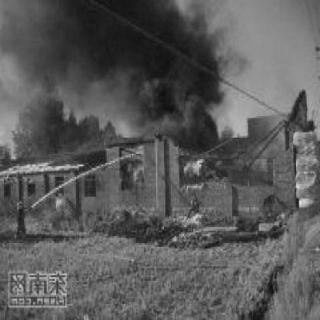Smoke: (74, 3, 236, 140), (14, 88, 70, 151)
